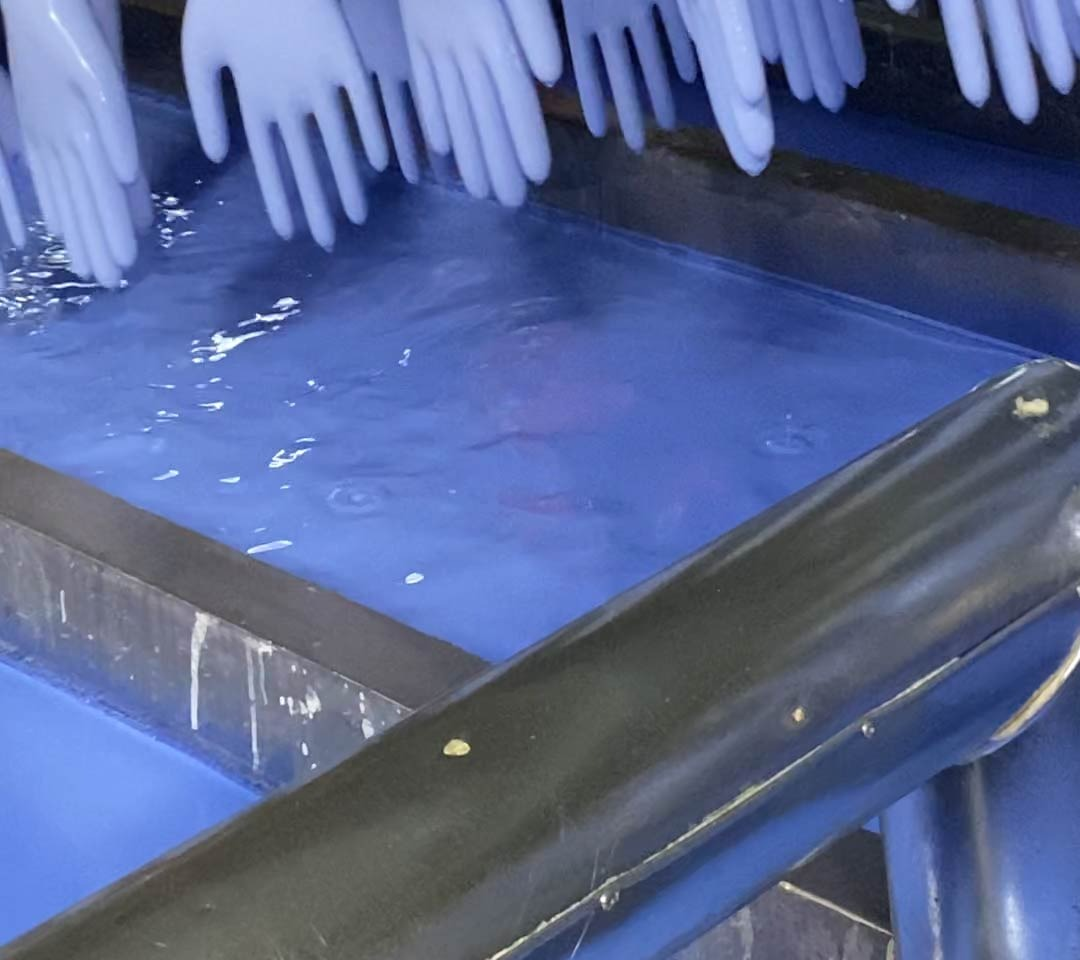glove: (173, 1, 394, 249), (1, 1, 154, 292), (400, 1, 570, 215), (560, 1, 703, 151)
